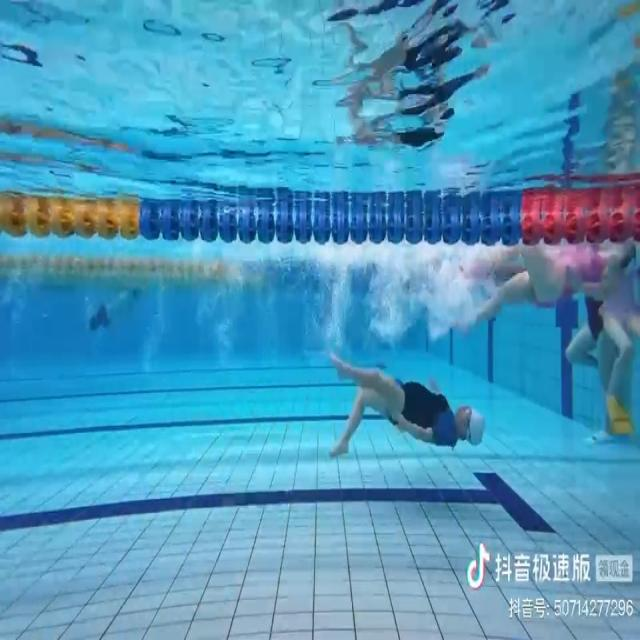Swimming: (329, 350, 487, 464), (457, 242, 638, 330)
